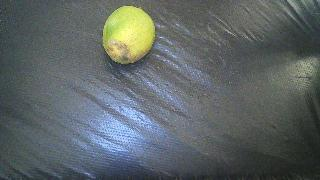DESECHO: (102, 6, 155, 64)
